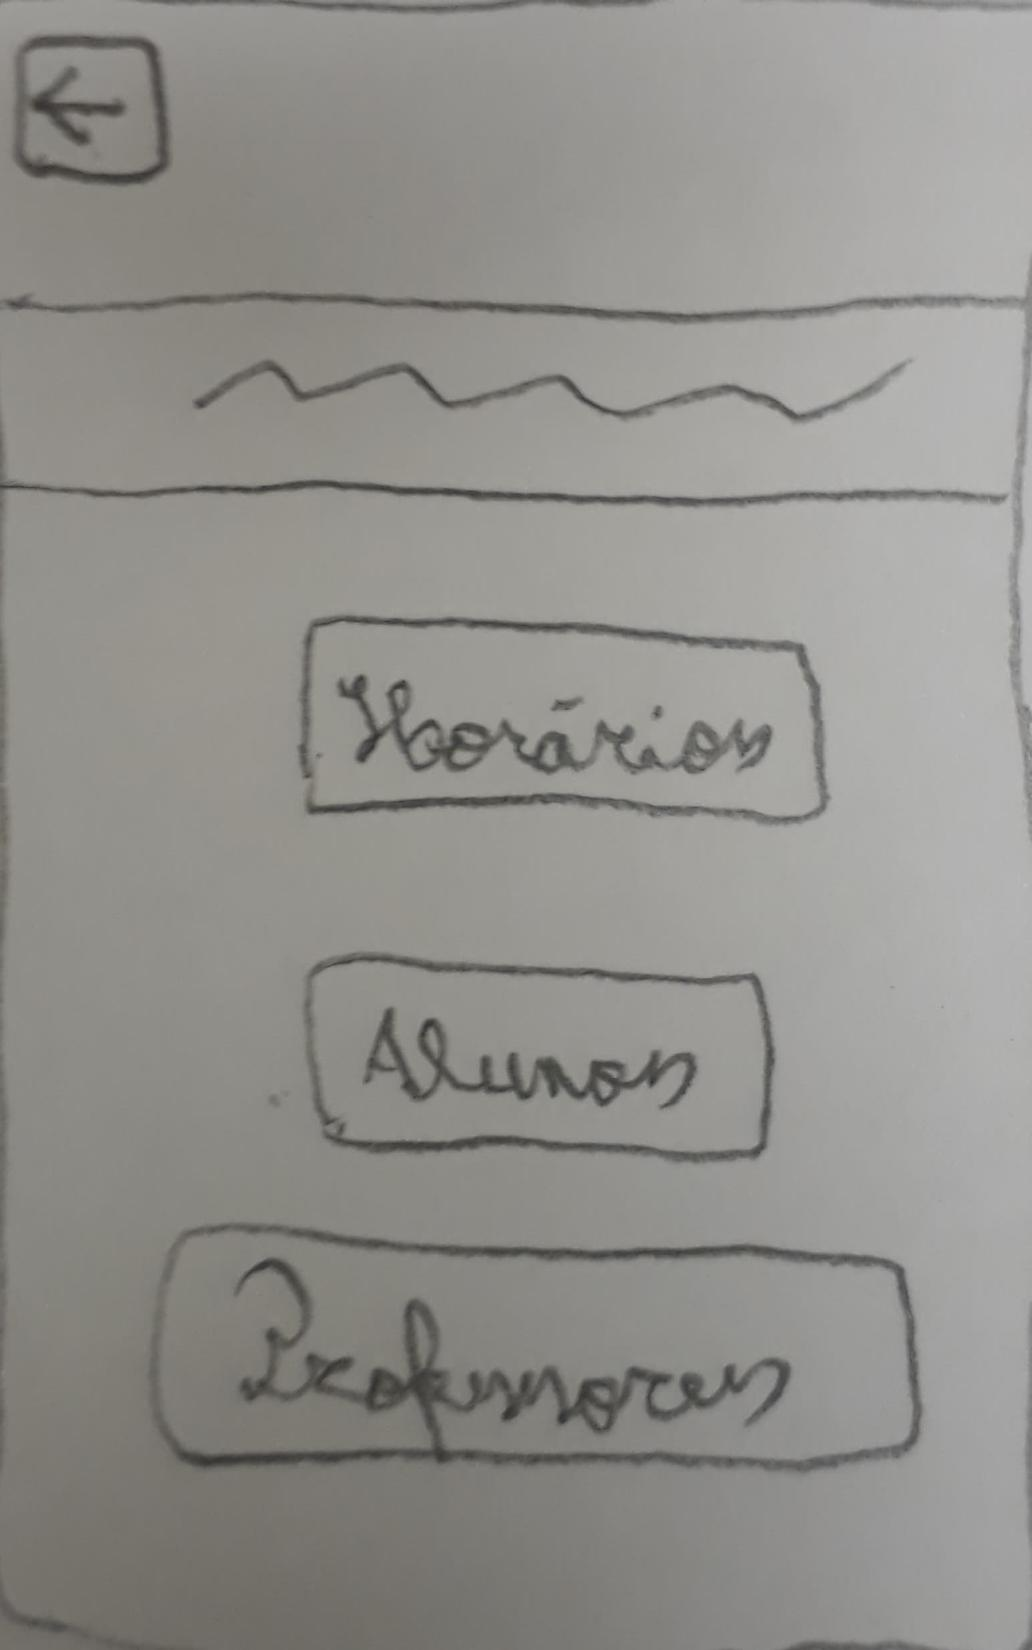Button: (150, 1226, 923, 1470), (298, 615, 831, 824), (302, 952, 772, 1163), (14, 33, 171, 183)
Label: (193, 353, 917, 426)
Screen: (2, 2, 1030, 1649)
